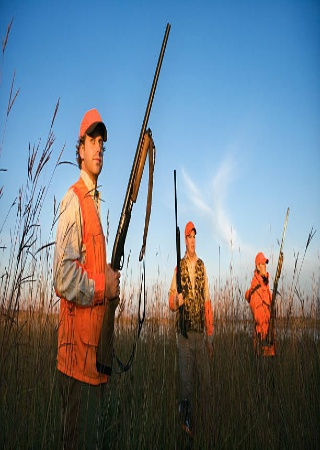rifle: (88, 20, 174, 369), (262, 204, 292, 350), (168, 163, 190, 344)
